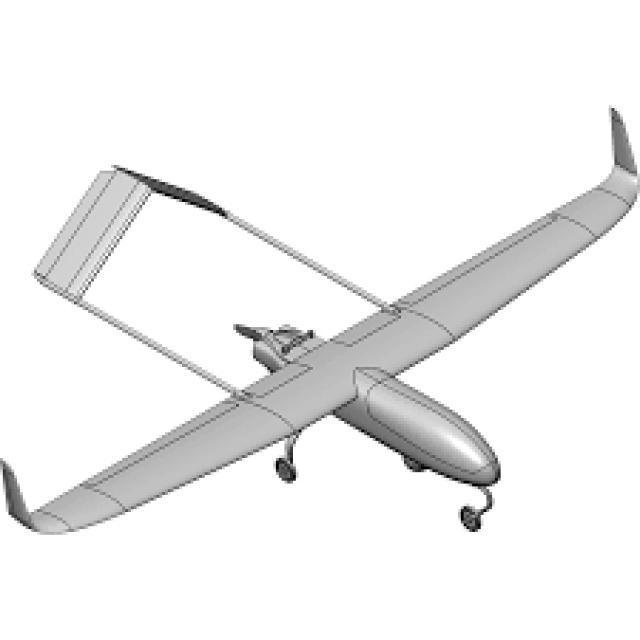UAV: (24, 94, 627, 542)
